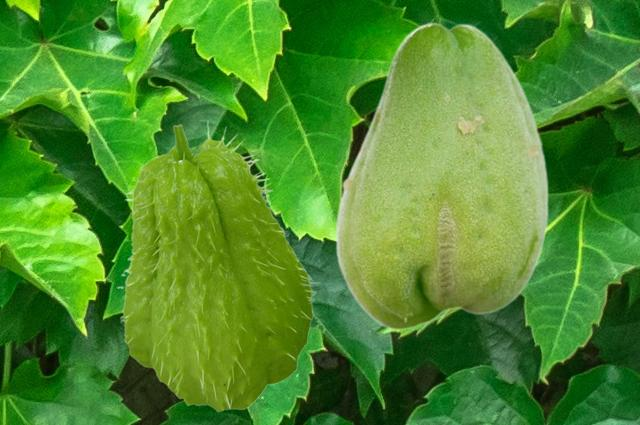sayote: (334, 21, 548, 329), (116, 120, 318, 411)
